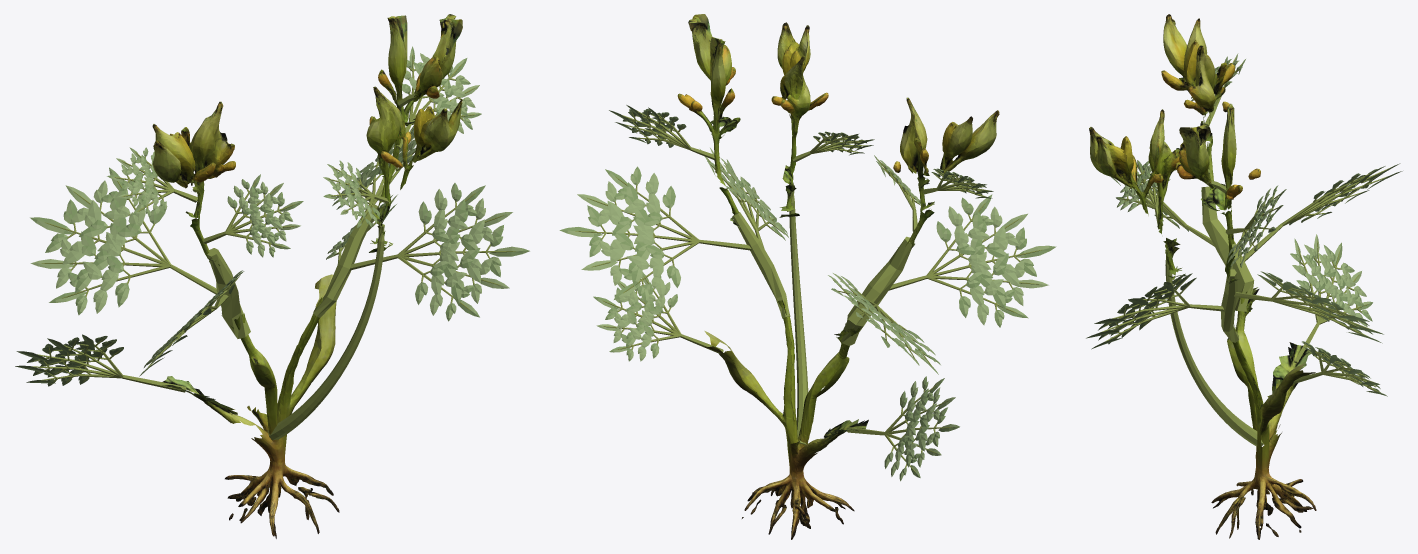
The picture shows the model from 3 angles, left to right: view 1: azimuth 30°, elevation 25°; view 2: azimuth 150°, elevation 25°; view 3: azimuth 270°, elevation 25°; orthographic projection. The views are drawn at different scales.
Parts seen in each view (by area): view 1: Retained_original_roots_axes_upper_organs, L04_left_rear_divided_foliage_module, L05_right_front_divided_foliage_module, L01_lower_left_divided_foliage_module, L07_left_upper_divided_foliage_module, Rear_crown_support_interpretive_side_axis, L09_right_top_divided_foliage_module, L08_left_top_divided_foliage_module, L10_rear_mid_divided_foliage_module, Right_axis_local_node_reconstruction, Left_axis_local_node_reconstruction, L03_left_front_divided_foliage_module (+1 smaller); view 2: Retained_original_roots_axes_upper_organs, L06_right_rear_divided_foliage_module, L03_left_front_divided_foliage_module, L02_lower_right_divided_foliage_module, L01_lower_left_divided_foliage_module, Rear_crown_support_interpretive_side_axis, L04_left_rear_divided_foliage_module, Left_axis_local_node_reconstruction, L09_right_top_divided_foliage_module, L05_right_front_divided_foliage_module, Right_axis_local_node_reconstruction, L10_rear_mid_divided_foliage_module (+2 smaller); view 3: Retained_original_roots_axes_upper_organs, L01_lower_left_divided_foliage_module, L05_right_front_divided_foliage_module, L06_right_rear_divided_foliage_module, L04_left_rear_divided_foliage_module, Rear_crown_support_interpretive_side_axis, Left_axis_local_node_reconstruction, L09_right_top_divided_foliage_module, L02_lower_right_divided_foliage_module, L10_rear_mid_divided_foliage_module, Right_axis_local_node_reconstruction, L03_left_front_divided_foliage_module.
Part boxes in pixels (x1=…): Retained_original_roots_axes_upper_organs: x1=152, y1=14, x2=462, y2=538; L04_left_rear_divided_foliage_module: x1=30, y1=167, x2=217, y2=315; L05_right_front_divided_foliage_module: x1=350, y1=183, x2=529, y2=321; L01_lower_left_divided_foliage_module: x1=15, y1=334, x2=186, y2=392; L07_left_upper_divided_foliage_module: x1=203, y1=174, x2=303, y2=257; Rear_crown_support_interpretive_side_axis: x1=268, y1=224, x2=384, y2=439; L09_right_top_divided_foliage_module: x1=396, y1=46, x2=481, y2=149; L08_left_top_divided_foliage_module: x1=107, y1=147, x2=197, y2=217; L10_rear_mid_divided_foliage_module: x1=323, y1=160, x2=388, y2=227; Right_axis_local_node_reconstruction: x1=313, y1=203, x2=377, y2=317; Left_axis_local_node_reconstruction: x1=207, y1=248, x2=250, y2=338; L03_left_front_divided_foliage_module: x1=139, y1=270, x2=244, y2=376; Retained_original_roots_axes_upper_organs: x1=677, y1=14, x2=999, y2=539; L06_right_rear_divided_foliage_module: x1=559, y1=166, x2=751, y2=303; L03_left_front_divided_foliage_module: x1=889, y1=194, x2=1056, y2=327; L02_lower_right_divided_foliage_module: x1=593, y1=272, x2=723, y2=361; L01_lower_left_divided_foliage_module: x1=846, y1=376, x2=959, y2=481; Rear_crown_support_interpretive_side_axis: x1=789, y1=191, x2=808, y2=445; L04_left_rear_divided_foliage_module: x1=828, y1=273, x2=940, y2=374; Left_axis_local_node_reconstruction: x1=841, y1=236, x2=914, y2=345; L09_right_top_divided_foliage_module: x1=609, y1=105, x2=719, y2=159; L05_right_front_divided_foliage_module: x1=700, y1=148, x2=788, y2=248; Right_axis_local_node_reconstruction: x1=732, y1=212, x2=790, y2=318; L10_rear_mid_divided_foliage_module: x1=792, y1=131, x2=874, y2=162; Retained_original_roots_axes_upper_organs: x1=1089, y1=14, x2=1316, y2=539; L01_lower_left_divided_foliage_module: x1=1290, y1=234, x2=1372, y2=363; L05_right_front_divided_foliage_module: x1=1086, y1=273, x2=1223, y2=349; L06_right_rear_divided_foliage_module: x1=1234, y1=271, x2=1383, y2=343; L04_left_rear_divided_foliage_module: x1=1242, y1=163, x2=1402, y2=261; Rear_crown_support_interpretive_side_axis: x1=1165, y1=250, x2=1263, y2=446; Left_axis_local_node_reconstruction: x1=1201, y1=186, x2=1254, y2=311; L09_right_top_divided_foliage_module: x1=1225, y1=185, x2=1286, y2=268; L02_lower_right_divided_foliage_module: x1=1292, y1=341, x2=1387, y2=396; L10_rear_mid_divided_foliage_module: x1=1116, y1=160, x2=1170, y2=225; Right_axis_local_node_reconstruction: x1=1221, y1=269, x2=1238, y2=342; L03_left_front_divided_foliage_module: x1=1111, y1=175, x2=1214, y2=246.
Size of the model in its own units: 0.8862 by 0.9887 by 0.6096.
Materials: 5 (1 with a texture image).
